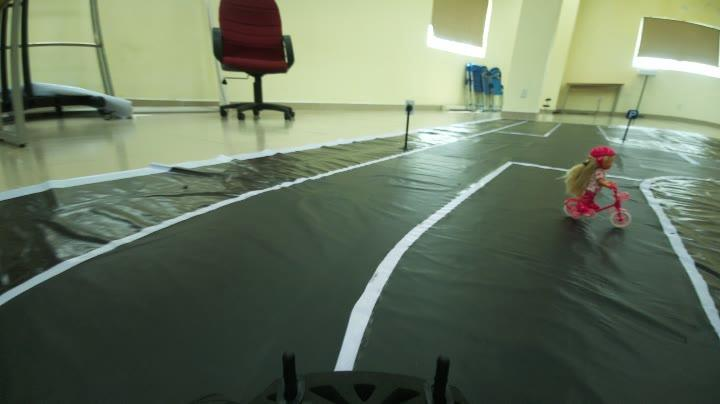pedestrian: (561, 136, 630, 242)
